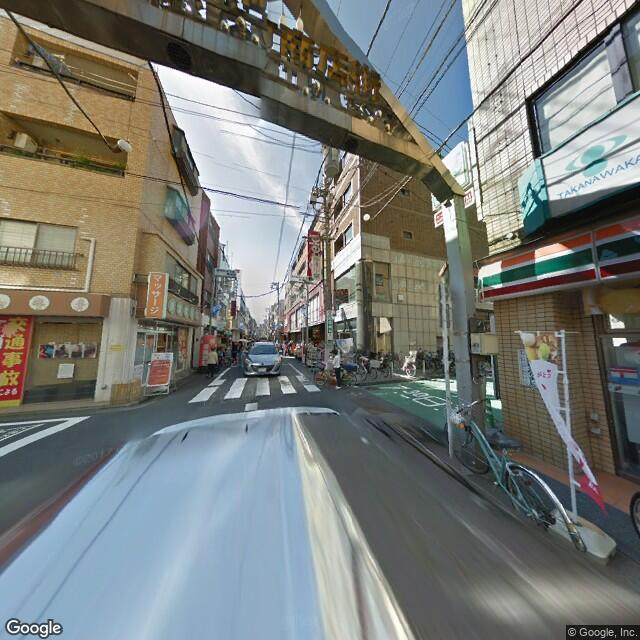7-eleven: (476, 215, 639, 301)
